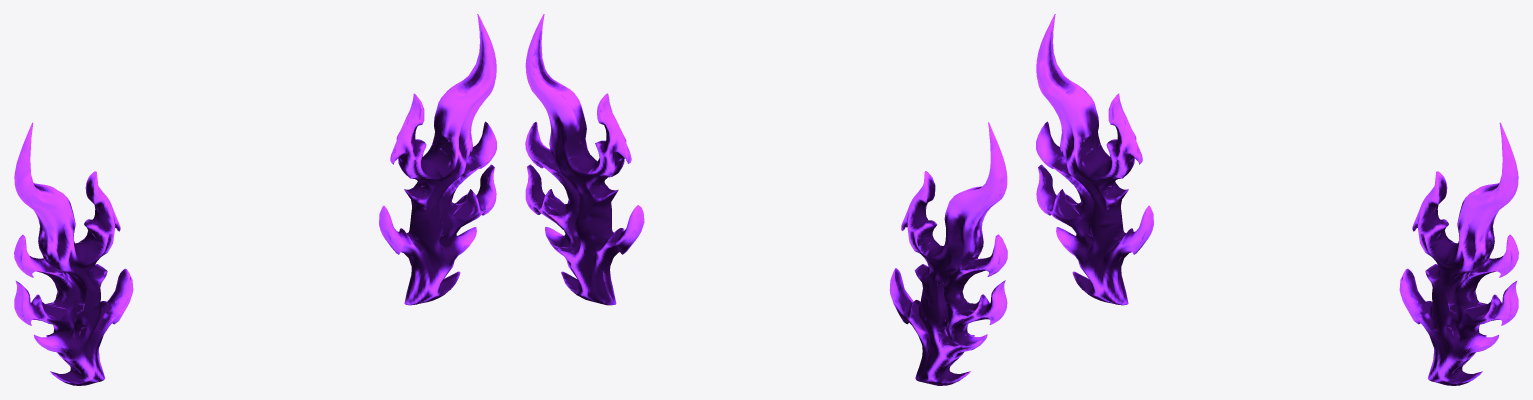
The model's file is Acce_01_low.glb.
The picture shows the model from 3 angles, left to right: view 1: azimuth 30°, elevation 25°; view 2: azimuth 150°, elevation 25°; view 3: azimuth 330°, elevation 25°; orthographic projection.
Visible parts, largest first — view 1: Acce_01_low; view 2: Acce_01_low; view 3: Acce_01_low.
Part boxes in pixels (box(x1,y1,x2,y2)): Acce_01_low: box(14, 14, 496, 385); Acce_01_low: box(525, 14, 1007, 385); Acce_01_low: box(1036, 14, 1518, 385).
Size of the model in its own units: 0.4976 by 0.2725 by 0.0381.
1 material, 1 textured.
